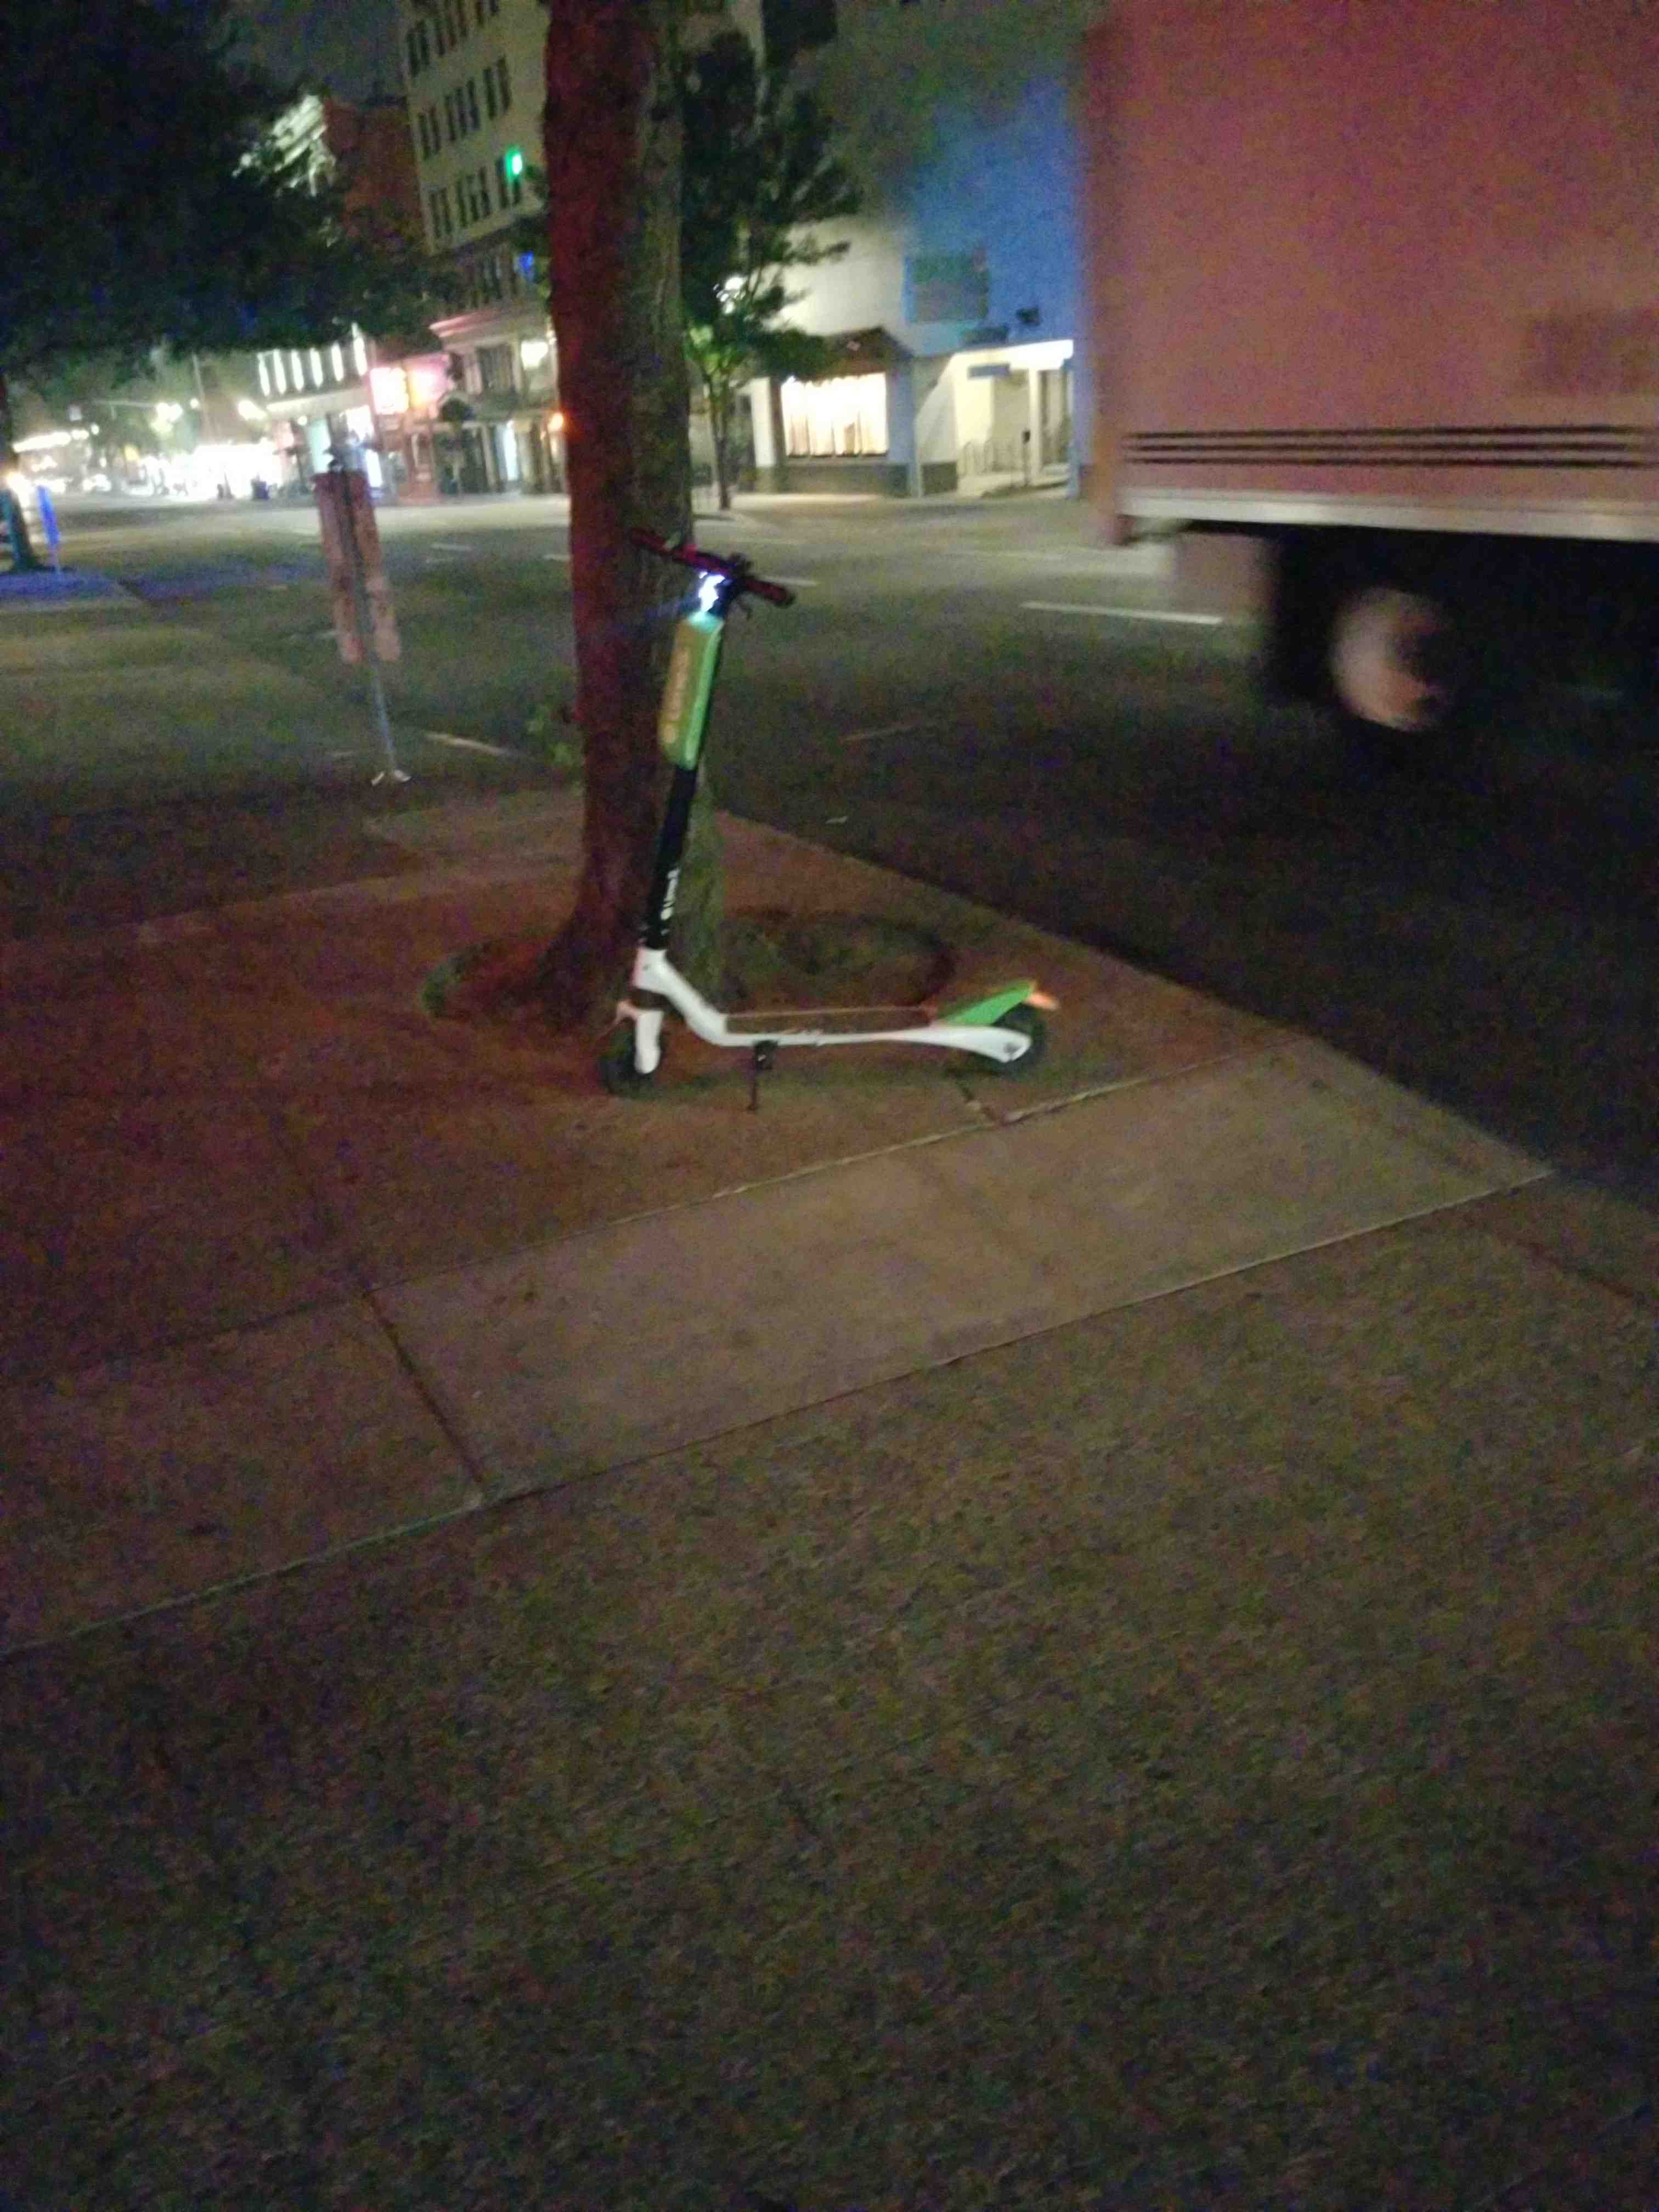scooter: (584, 559, 1072, 1123)
